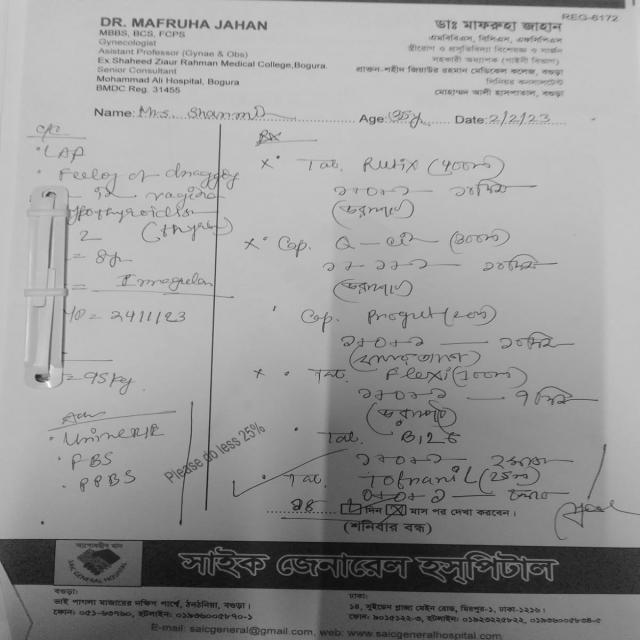B126: (393, 424, 461, 451)
Flexibac: (379, 363, 456, 386)
Progut: (356, 303, 442, 331)
Qcin: (330, 230, 426, 255)
Rutix: (349, 155, 428, 176)
Tofranil: (357, 468, 481, 493)
